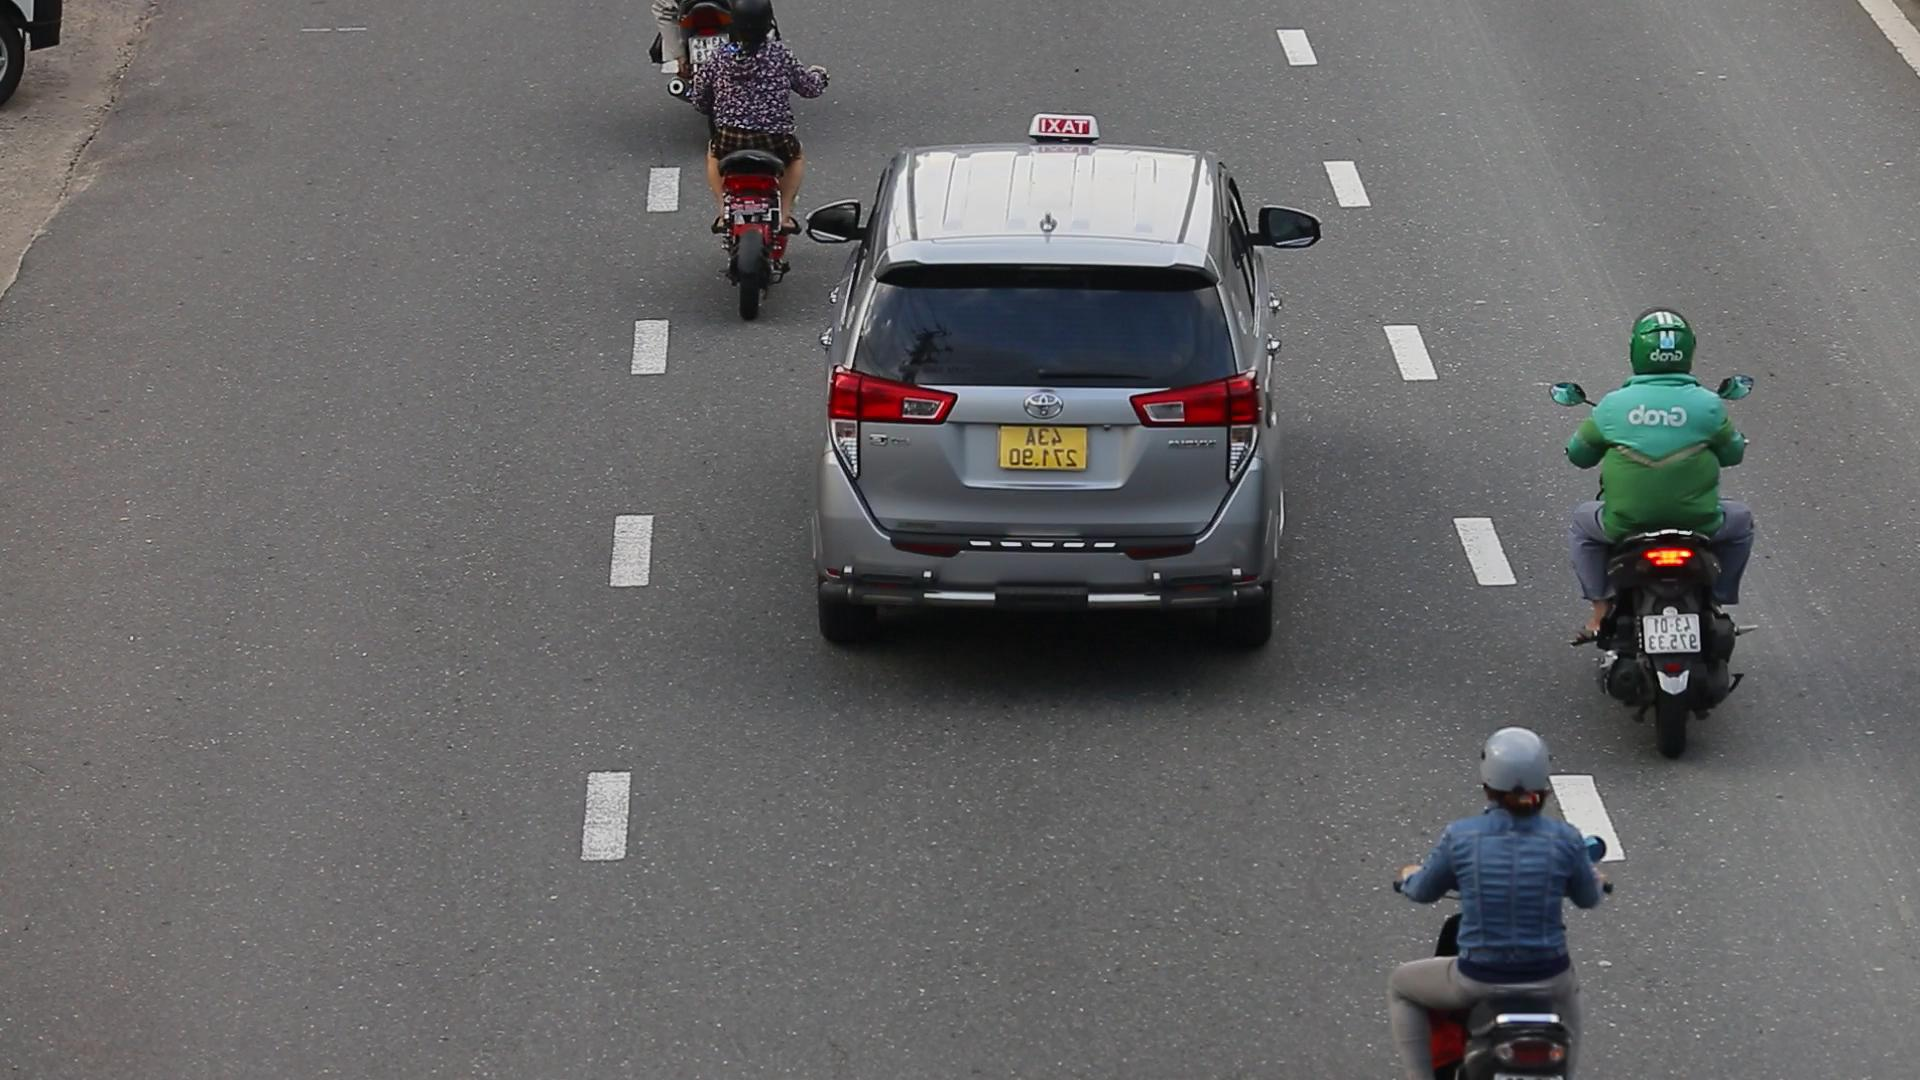motobike: (1544, 298, 1763, 750)
